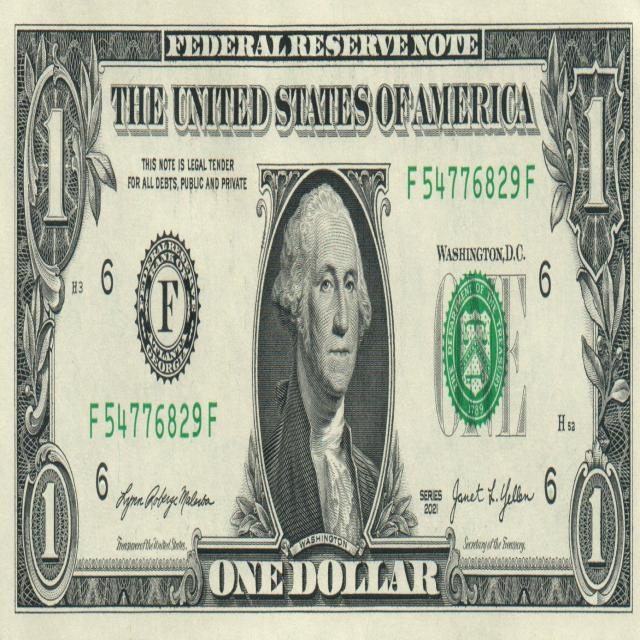SerialNumber: (90, 402, 217, 439), (422, 165, 535, 199)
